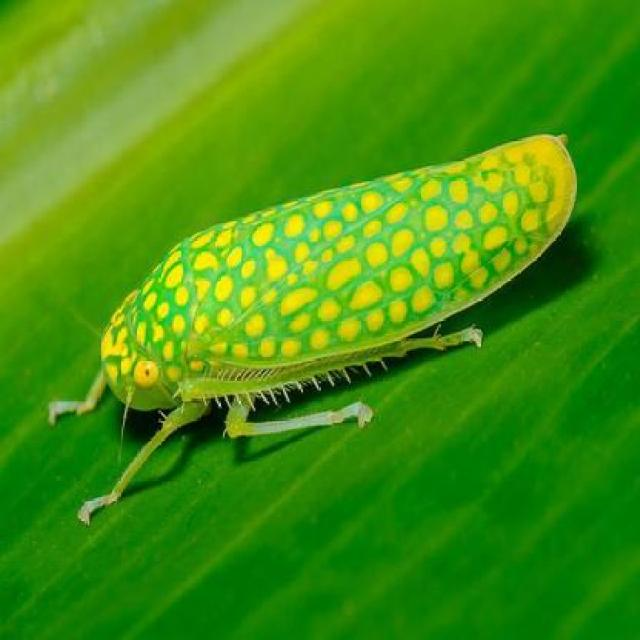green-leafhopper: (94, 132, 575, 466)
